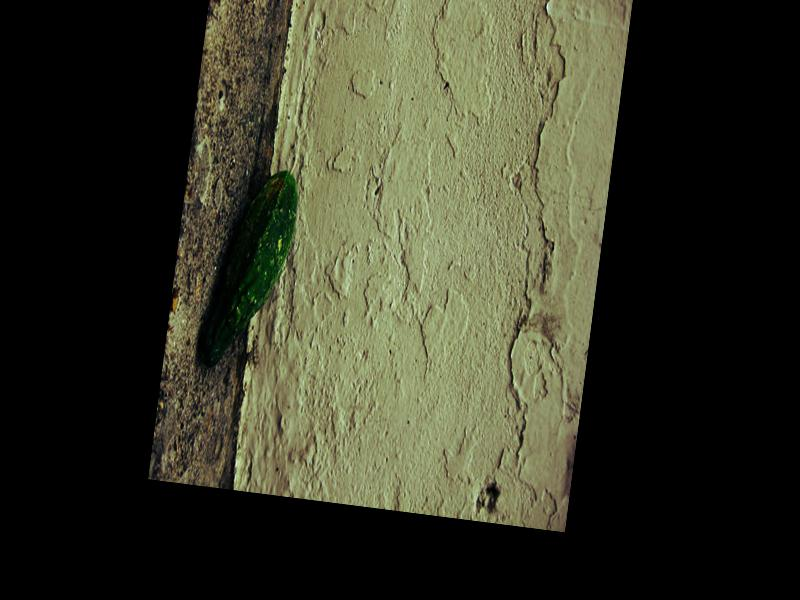Cucumber: (198, 163, 302, 373)
